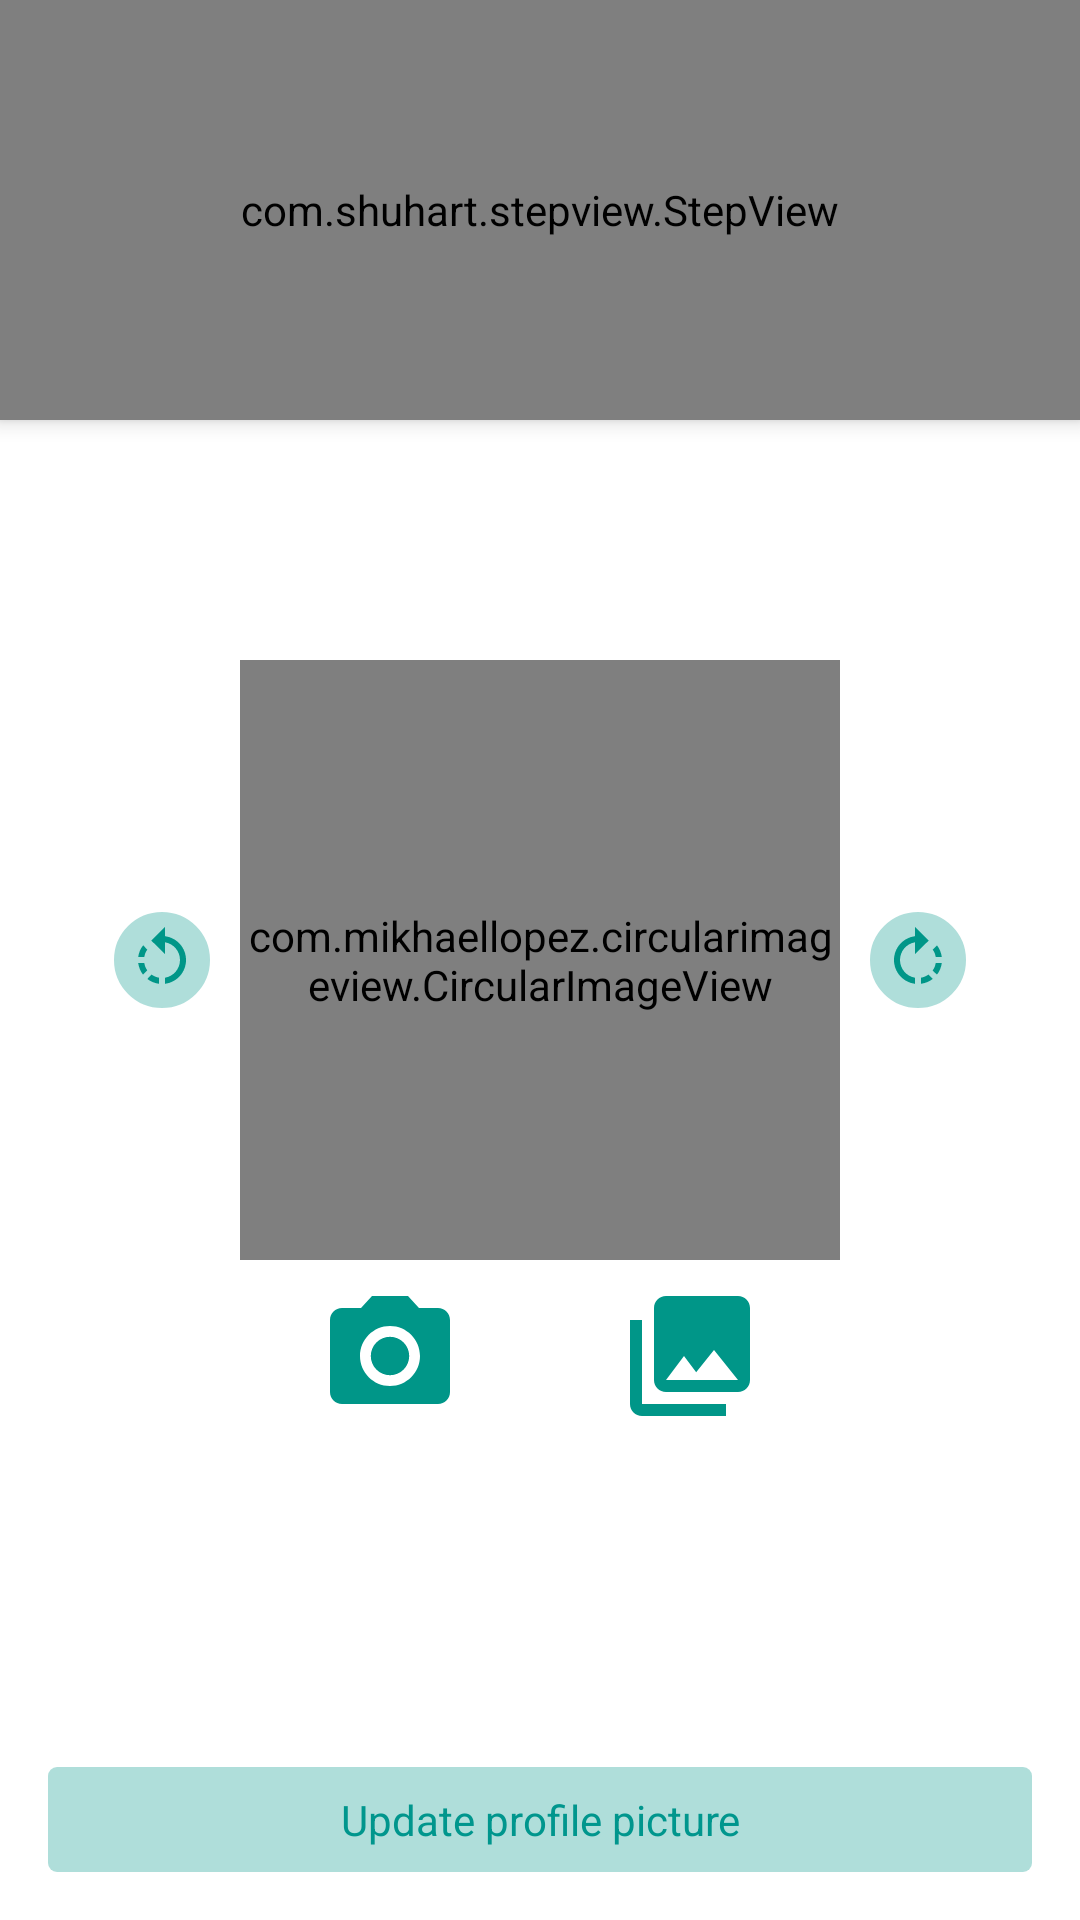

Locate icon controls on the screen. Image size 1080 × 1920, boxes as bbox(x1, y1, x2, y2).
Rotate profile picture left: bbox(114, 912, 210, 1008)
Rotate profile picture right: bbox(870, 912, 966, 1008)
Take picture: bbox(330, 1296, 450, 1404)
Upload picture from gallery: bbox(630, 1296, 750, 1416)
